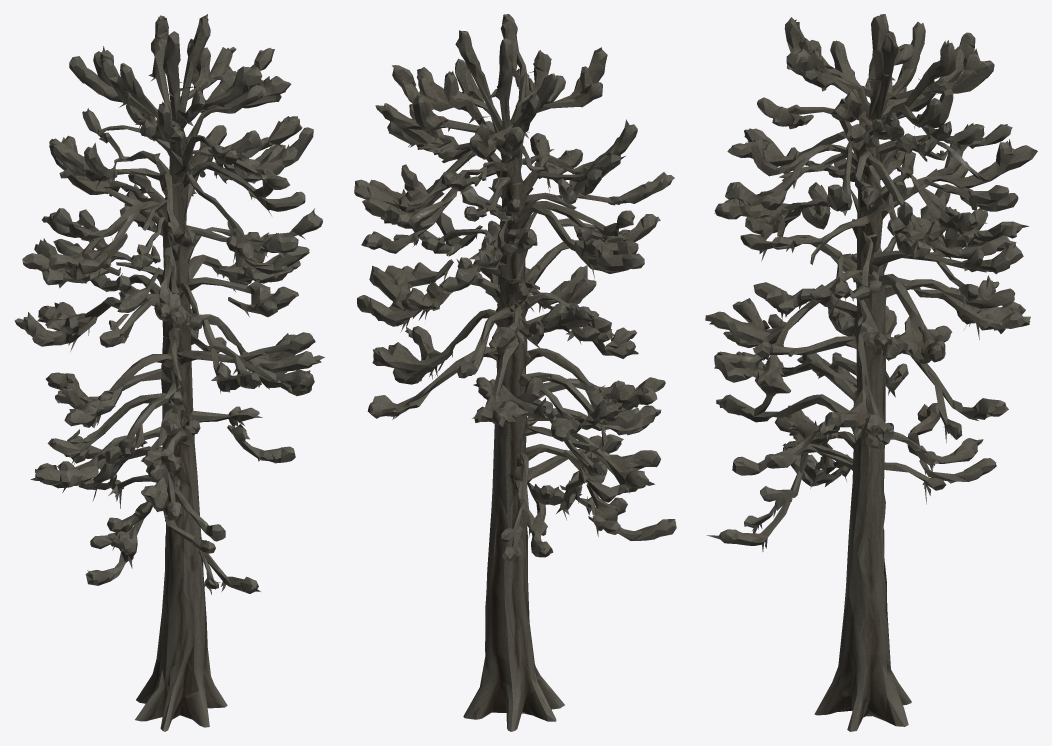
File: Araucaria.glb
3 views of the same model, side by side, from view 1: azimuth 30°, elevation 25°; view 2: azimuth 150°, elevation 25°; view 3: azimuth 270°, elevation 25° (orthographic). The views are drawn at different scales.
Bounding box in the file's own units: 0.7995 × 1.86 × 0.803.
Materials: 1 (1 with a texture image).
